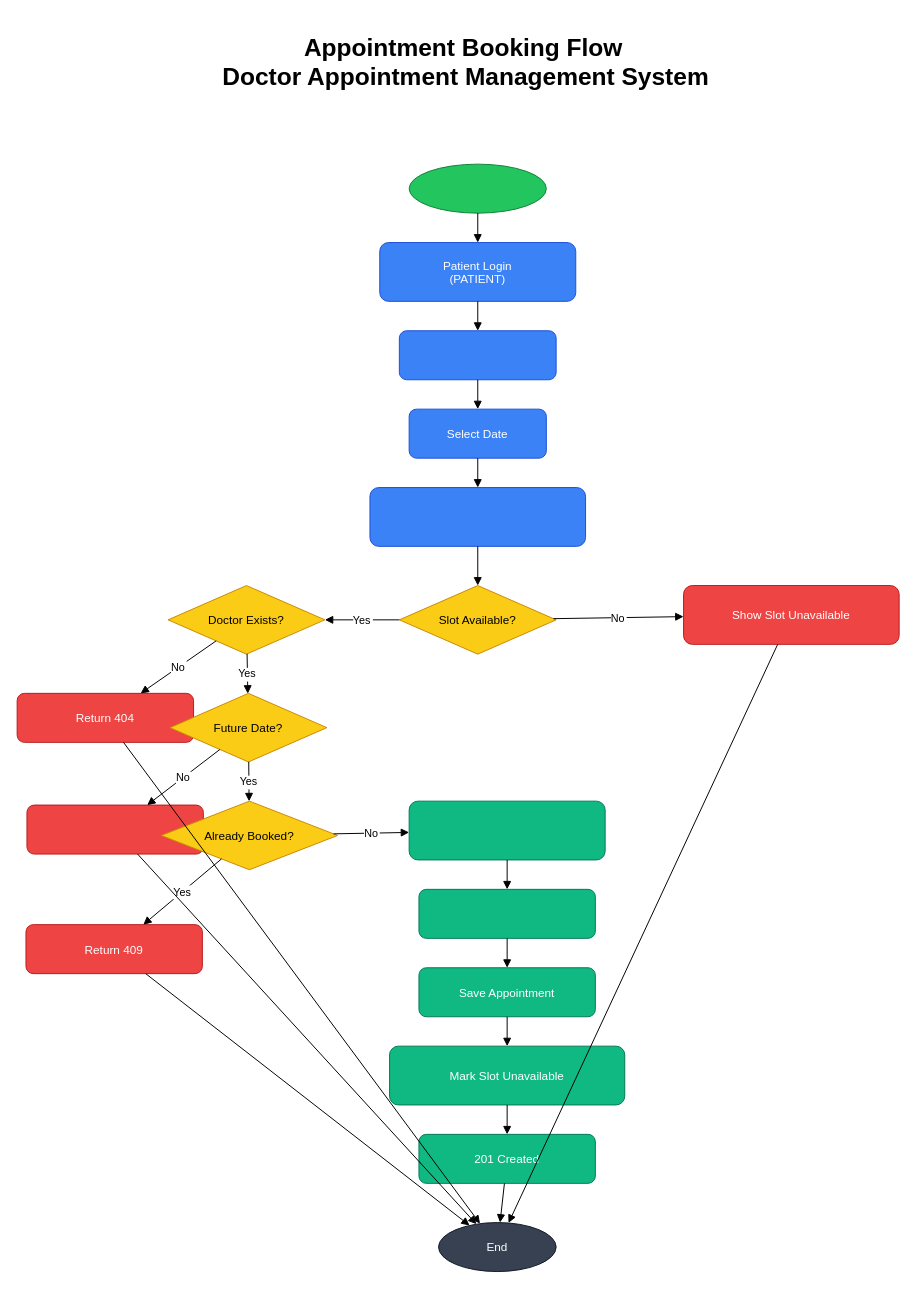
This 916x1289 diagram has some shape labels left out. The shapes that lost their labels are listed below. From the top down, each one's box as (x1, y1, x2, y2) in pixels, then its label:
(408, 163, 546, 213): Start
(398, 330, 556, 380): Select Doctor
(369, 487, 586, 546): Fetch Available Slots
(26, 804, 203, 854): Return 400
(408, 800, 605, 860): Create Appointment
(418, 888, 595, 938): Status = BOOKED
